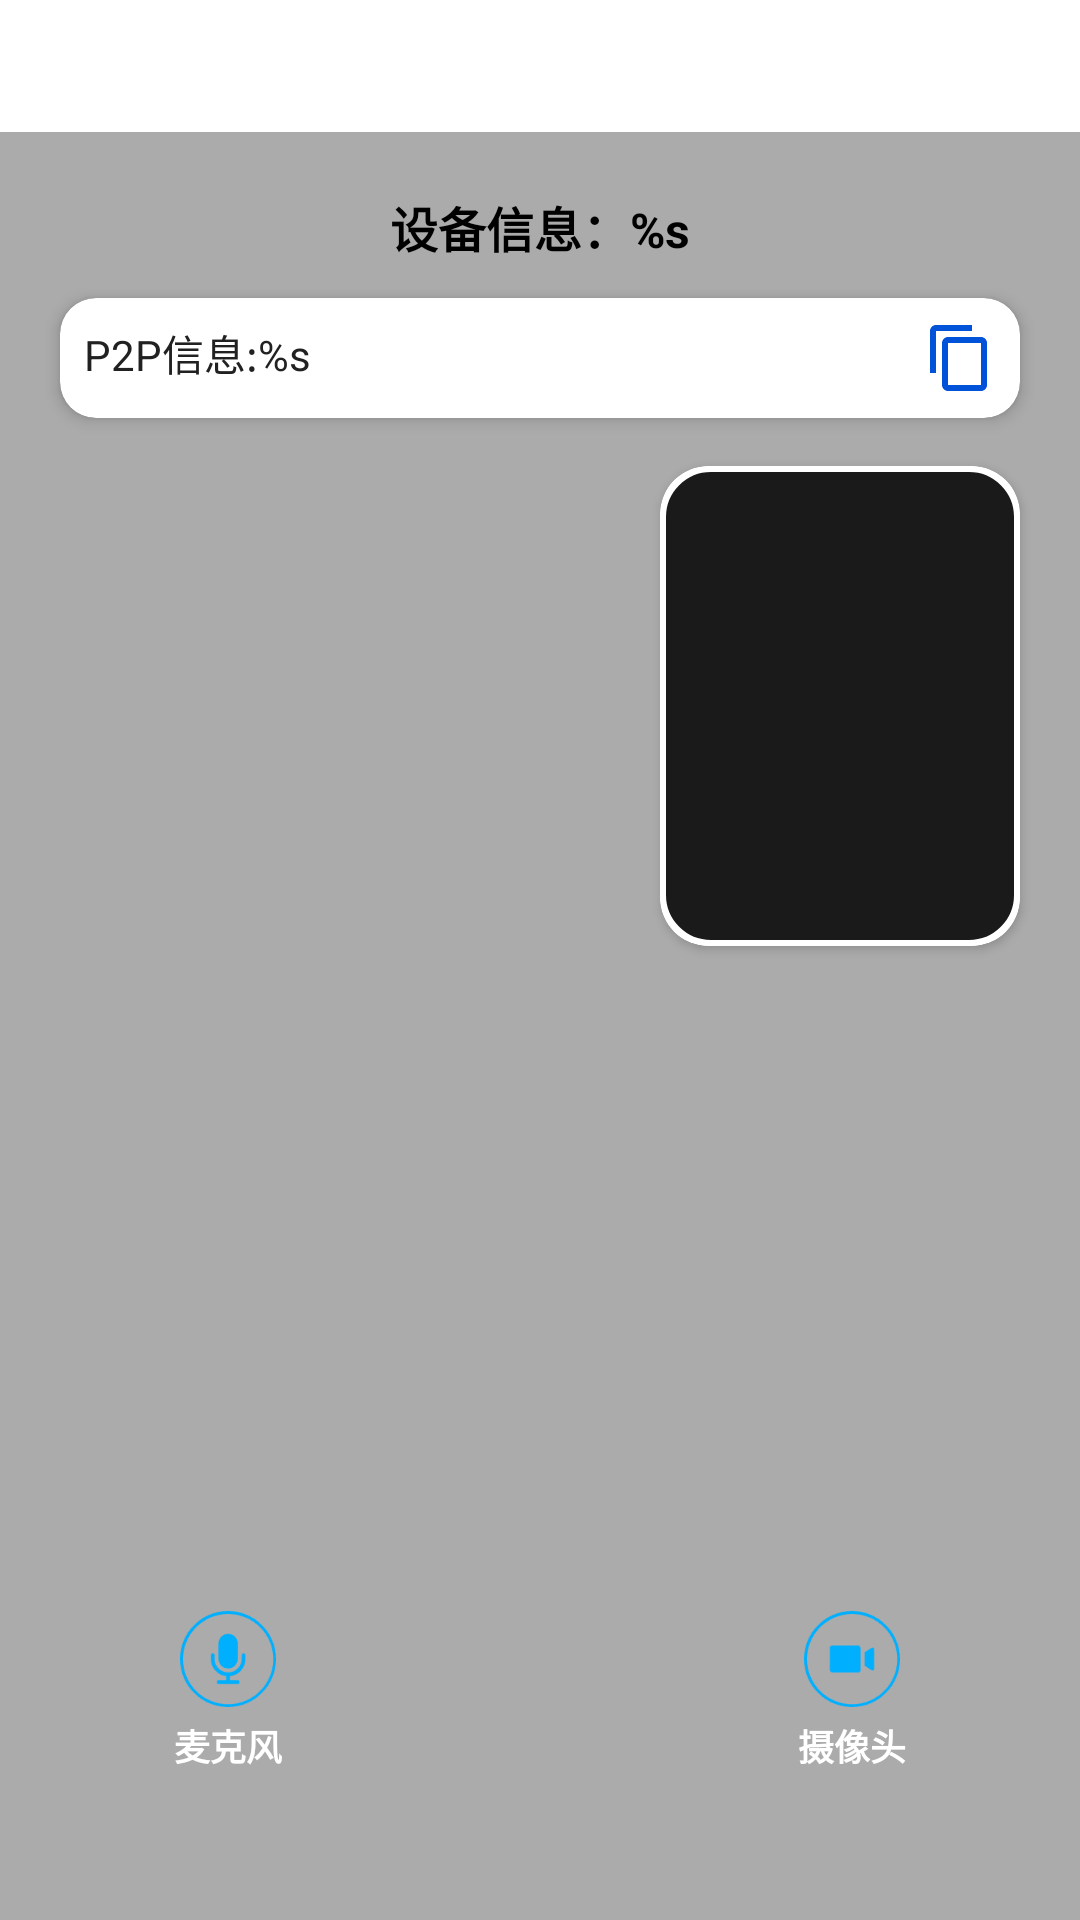

Icons on this 1080px x 1920px Android screen, each with its box as bbox=(x1, y1, x2, y2):
复制: bbox=(930, 325, 987, 391)
